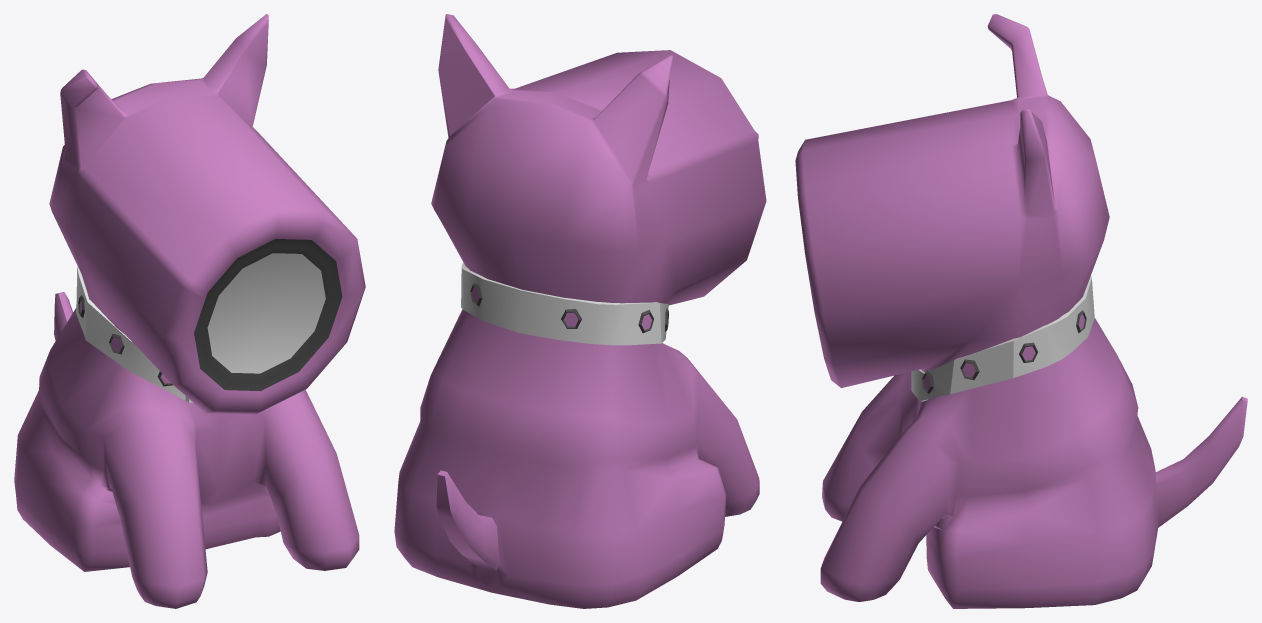
The model's file is LUFT01.FBX.
The picture shows the model from 3 angles, left to right: view 1: azimuth 30°, elevation 25°; view 2: azimuth 150°, elevation 25°; view 3: azimuth 270°, elevation 25°; orthographic projection. The views are drawn at different scales.
Parts seen in each view (by area): view 1: LUFT01; view 2: LUFT01; view 3: LUFT01.
Part boxes in pixels (<box>): LUFT01: <box>14,14,365,608</box>; LUFT01: <box>394,14,766,608</box>; LUFT01: <box>795,14,1247,608</box>.
Size of the model in its own units: 8.95 by 13.57 by 16.28.
